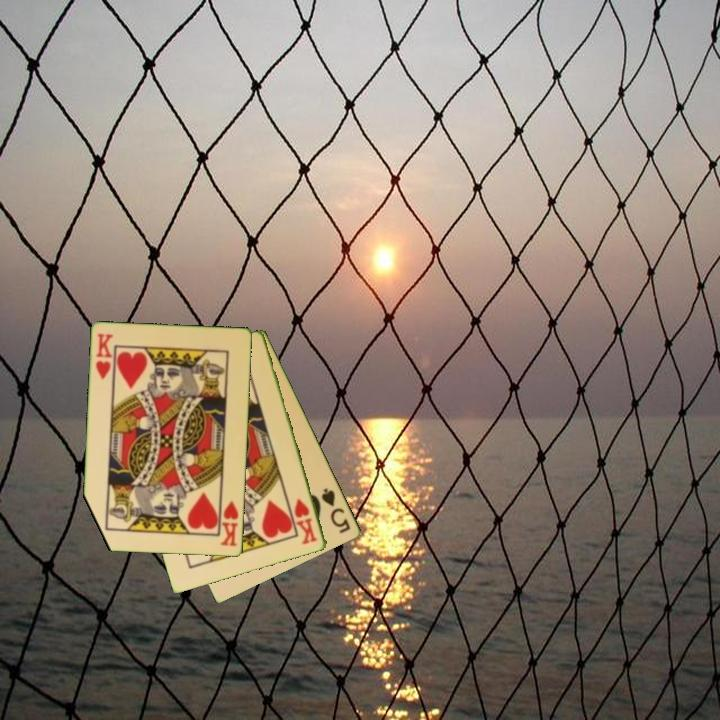5s: (318, 485, 354, 537)
Kh: (291, 495, 320, 547), (217, 493, 242, 549), (92, 330, 116, 383)
